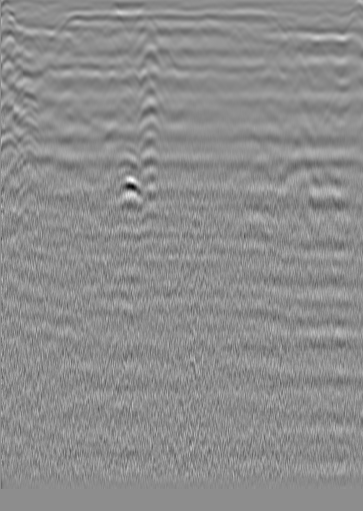가스: (111, 175, 144, 203)
상수: (20, 24, 40, 44)
오수: (303, 23, 323, 43)
우수: (165, 18, 185, 38)
